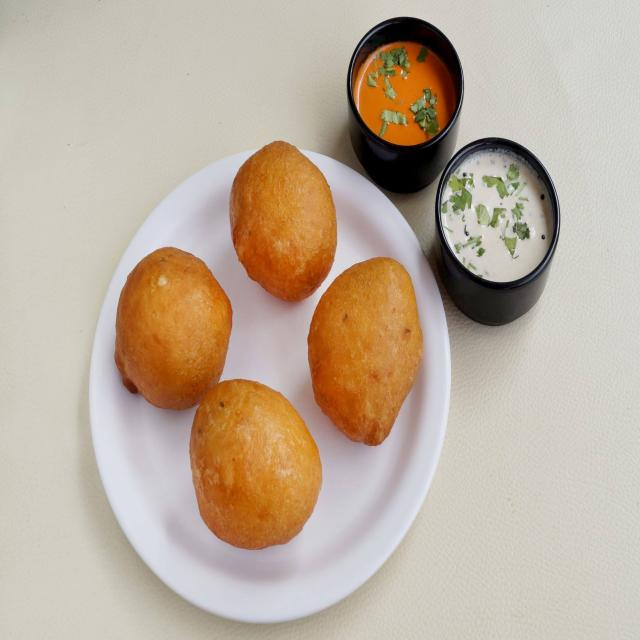RED CHUTNEY: (359, 42, 454, 142)
VADA: (108, 142, 422, 553)
WHITE CHUTNEY: (437, 141, 559, 289)
